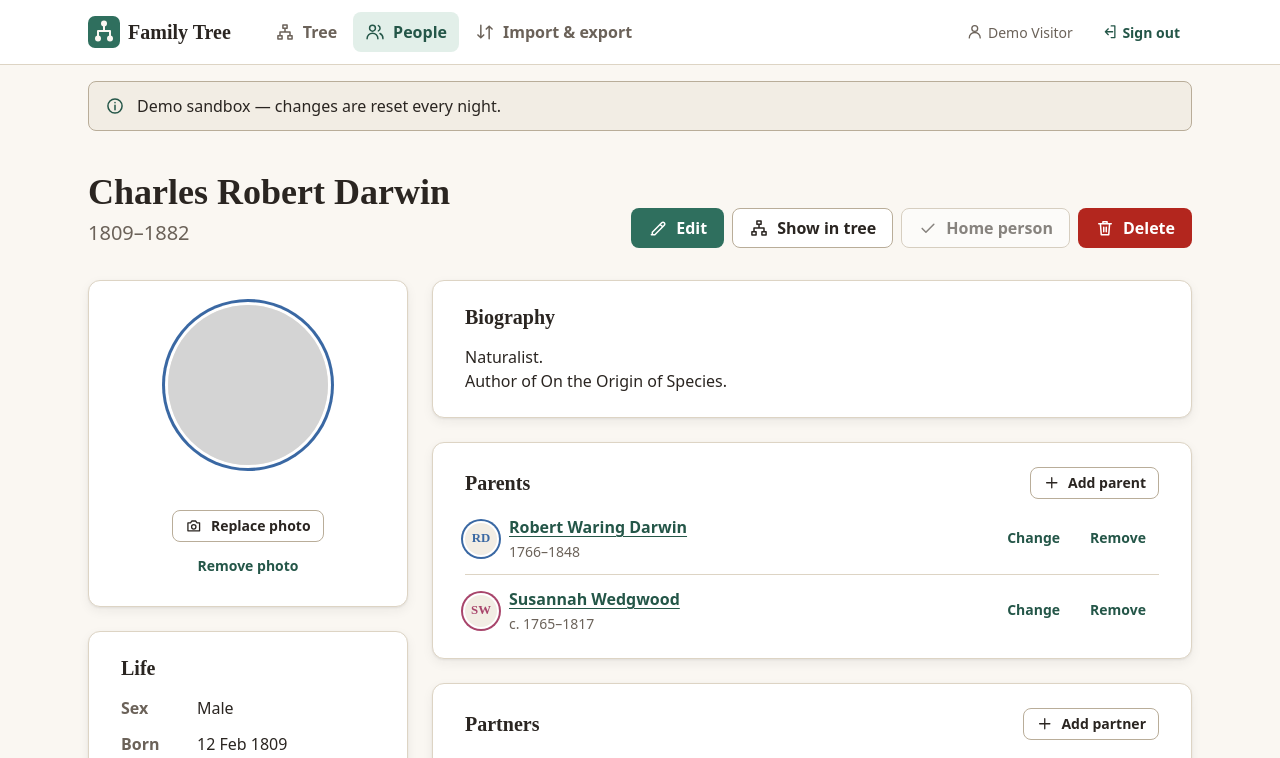
Test case: removing a parent link asks for confirmation and keeps both people
Click the button named "Remove Susannah Wedgwood" at (1118, 611), box [1077,595,1159,627]
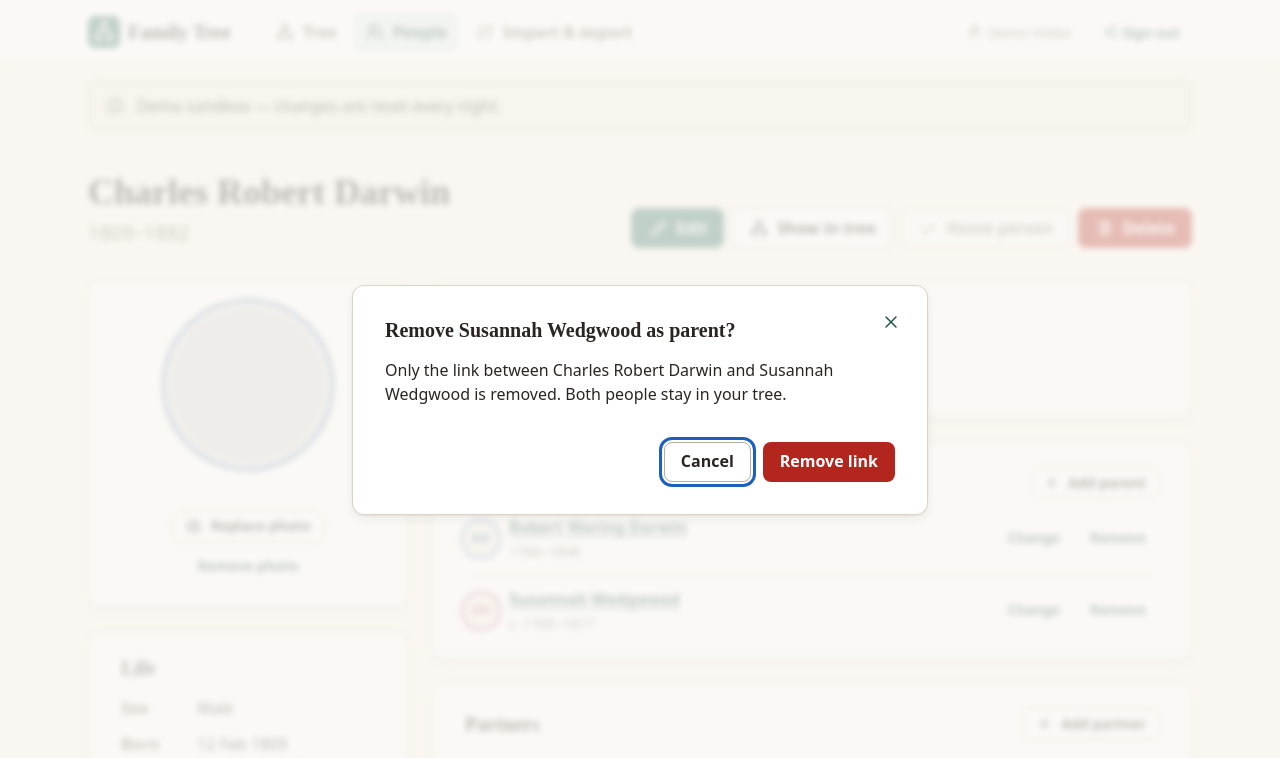
Now the dialog "Remove Susannah Wedgwood as parent?" shows "Both people stay in your tree.", box [470,383,787,405]
Click the button "Remove link" at (829, 462), box [763,442,895,482]
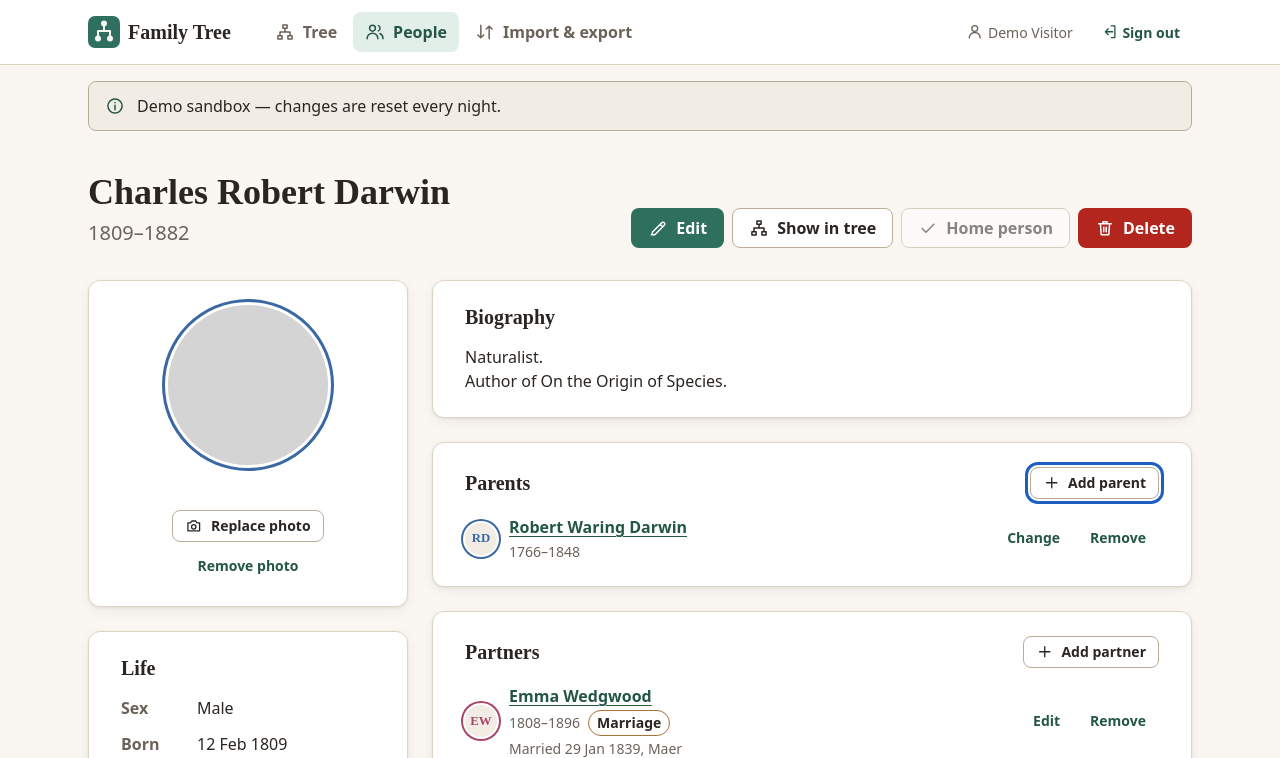
Now the link "Susannah Wedgwood" is gone
